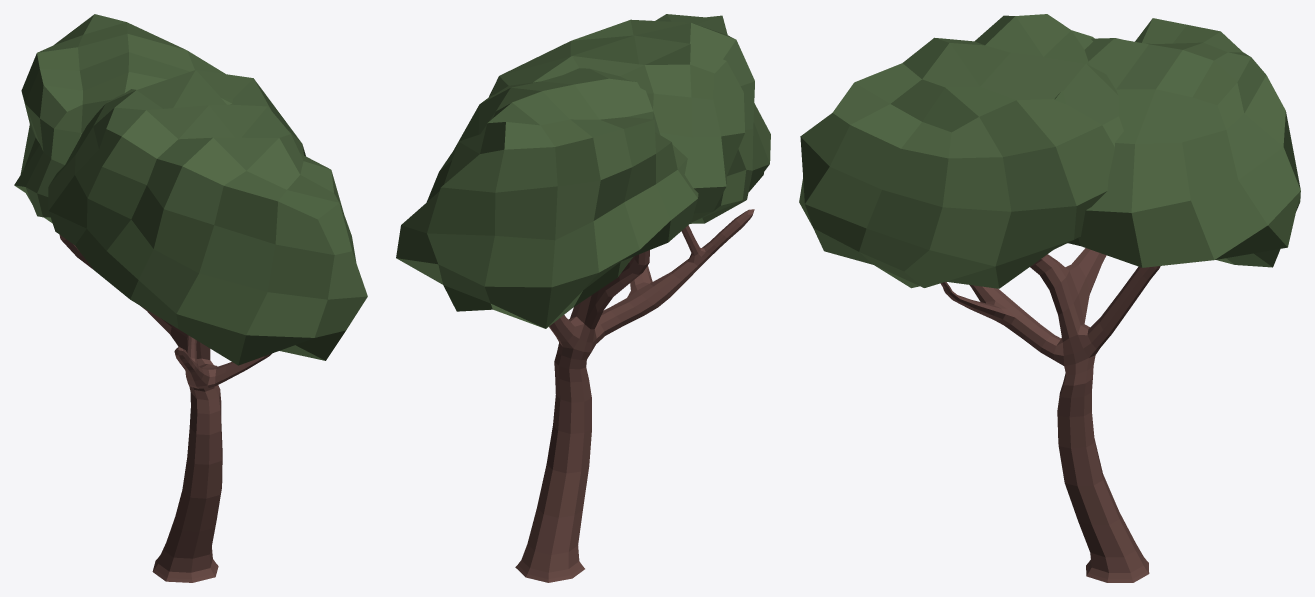
The model's file is CommonTree_5.gltf.
3 renders of one model, left to right at view 1: azimuth 30°, elevation 25°; view 2: azimuth 150°, elevation 25°; view 3: azimuth 270°, elevation 25°, orthographic. The views are drawn at different scales.
Visible parts, largest first — view 1: CommonTree_5; view 2: CommonTree_5; view 3: CommonTree_5.
Boxes of the visible parts, left/top/right/bottom form: CommonTree_5: left=14, top=14, right=367, bottom=582; CommonTree_5: left=396, top=14, right=770, bottom=582; CommonTree_5: left=799, top=14, right=1300, bottom=582.
Size of the model in its own units: 1.29 by 2.53 by 2.25.
